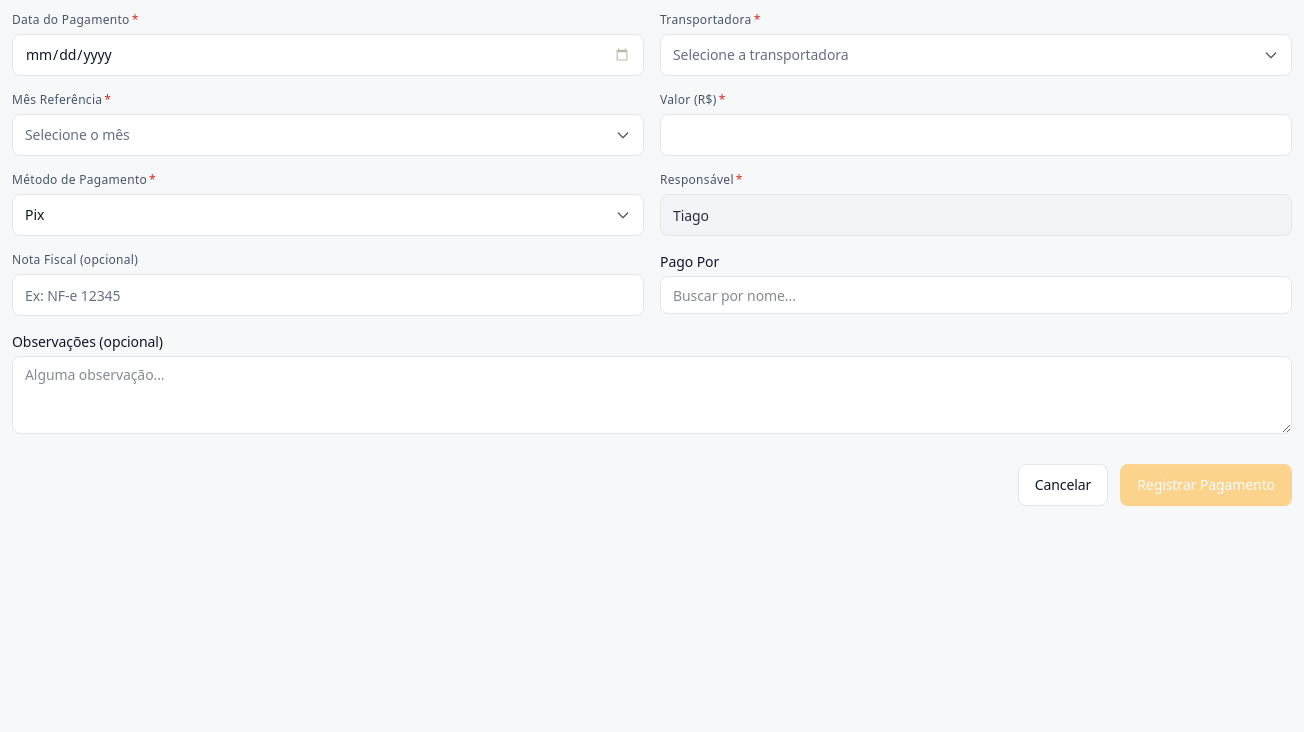
Test: PagamentoFreteForm — dropdowns controlados › reflete a transportadora selecionada no botão do dropdown
Click the button "Selecione a transportadora" at x=761, y=54, box [660, 34, 1292, 76]
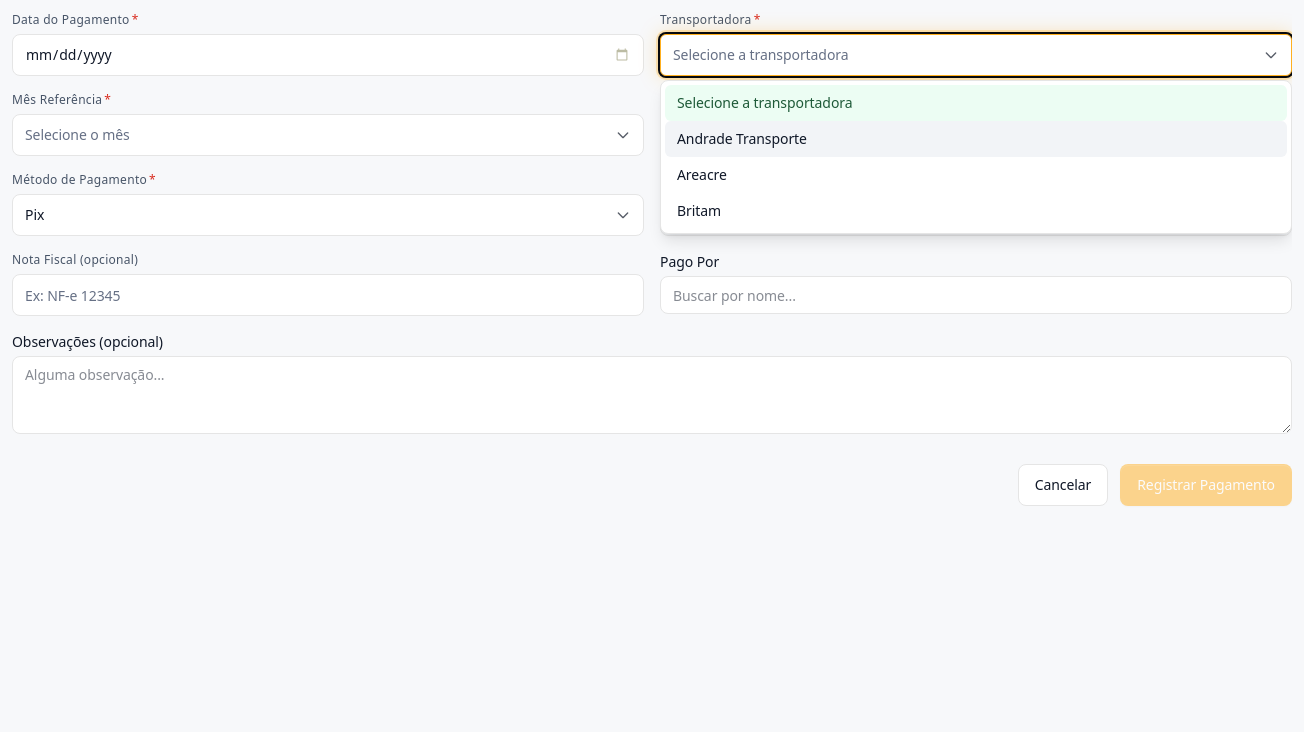
Click the option "Areacre" at x=702, y=174, box [677, 165, 727, 184]
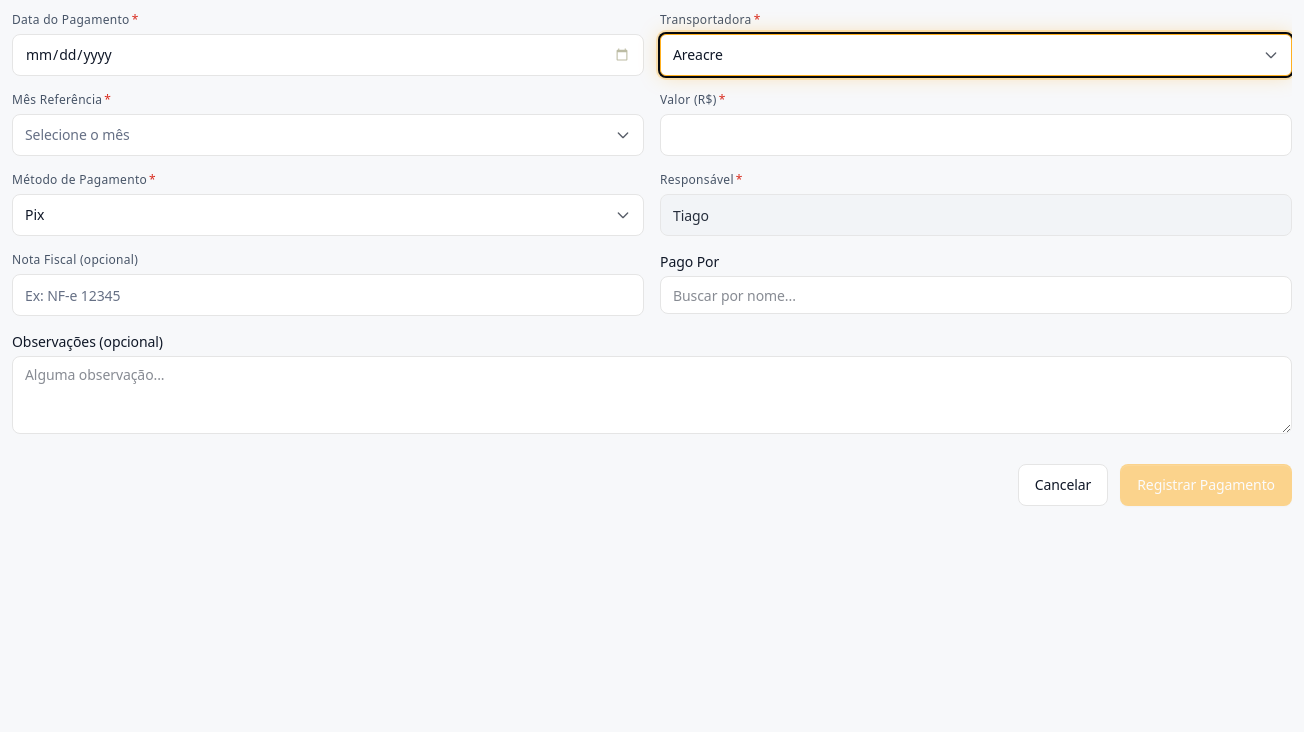
Expected: the button named "transportadora" reads "Areacre", [660, 34, 1292, 76]
